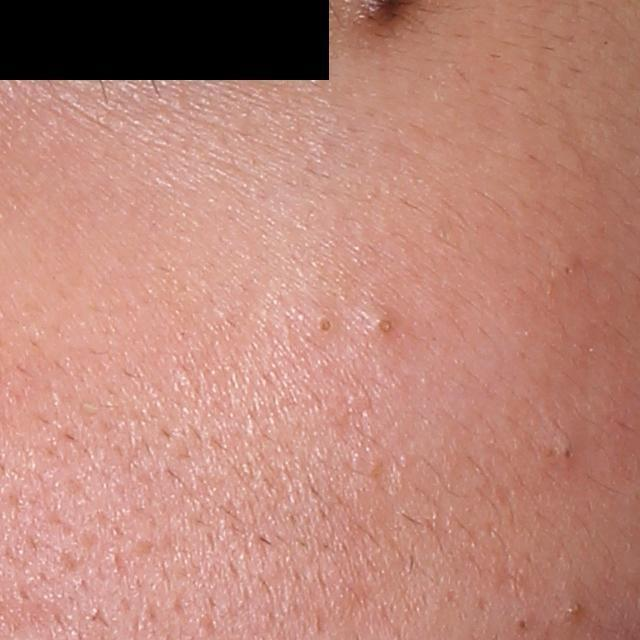comedo: (565, 599, 585, 626), (513, 614, 531, 636), (316, 316, 333, 337), (561, 260, 574, 281)
